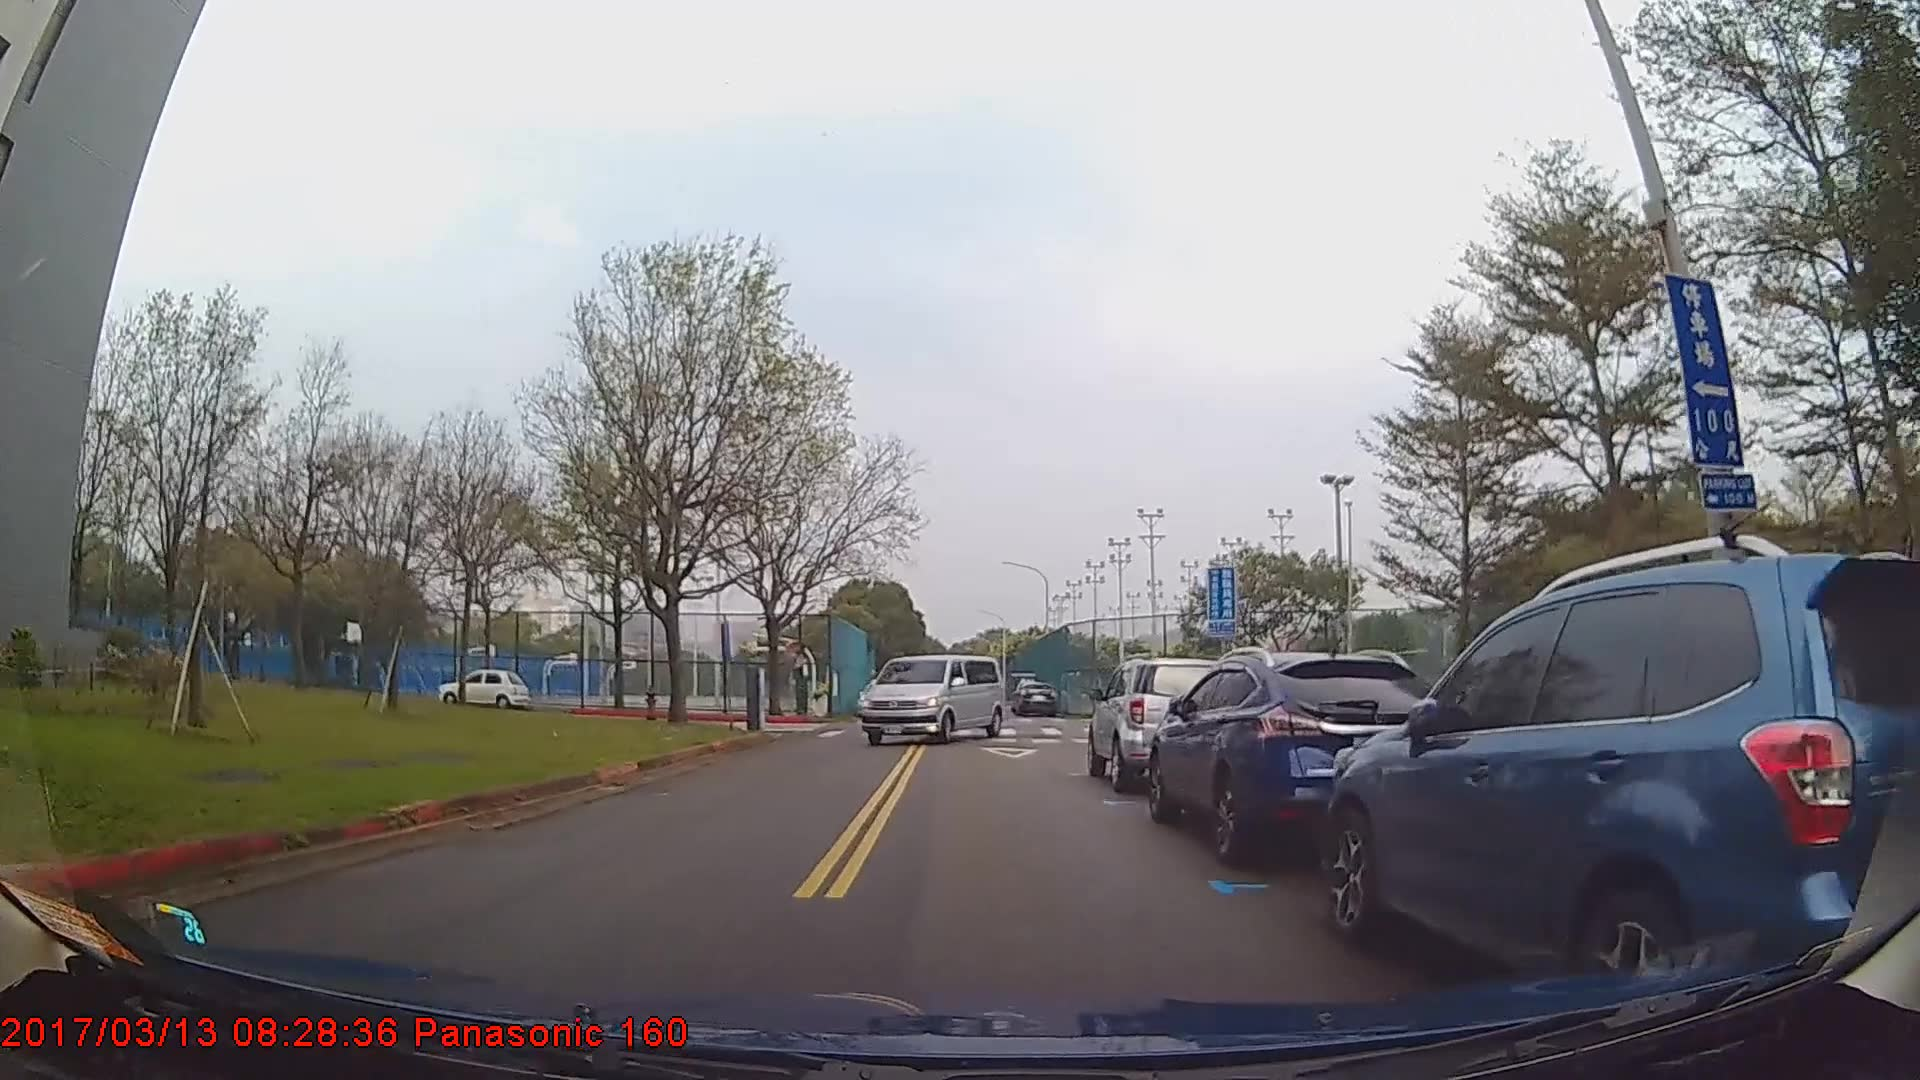vehicle: (1321, 549, 1917, 1010), (1143, 647, 1443, 857), (1087, 657, 1233, 789), (858, 649, 1006, 746), (439, 669, 527, 705), (1013, 678, 1059, 717)
